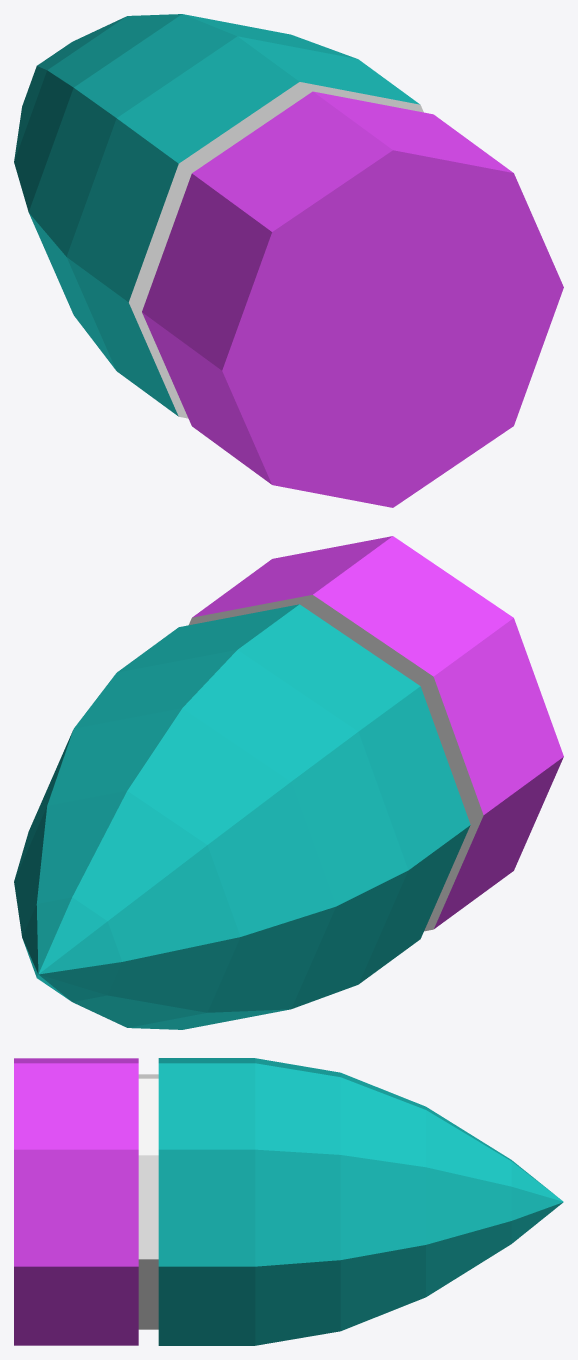
File: Bala.fbx
3 views of the same model, one above another, from view 1: azimuth 30°, elevation 25°; view 2: azimuth 150°, elevation 25°; view 3: azimuth 270°, elevation 25° (orthographic). The views are drawn at different scales.
Visible parts, largest first — view 1: Bala; view 2: Bala; view 3: Bala.
Part boxes in pixels (x1,y1,x2,y2): Bala: (14,14,563,507); Bala: (14,536,563,1029); Bala: (14,1058,563,1345).
Bounding box in the file's own units: 200 × 200 × 359.
